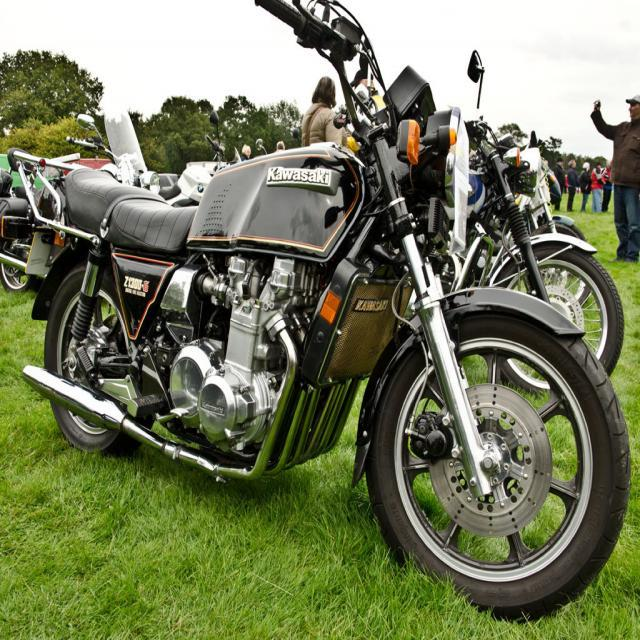bus: (2, 19, 624, 592), (366, 49, 624, 412), (0, 97, 162, 296), (470, 125, 584, 302), (158, 110, 243, 204)
